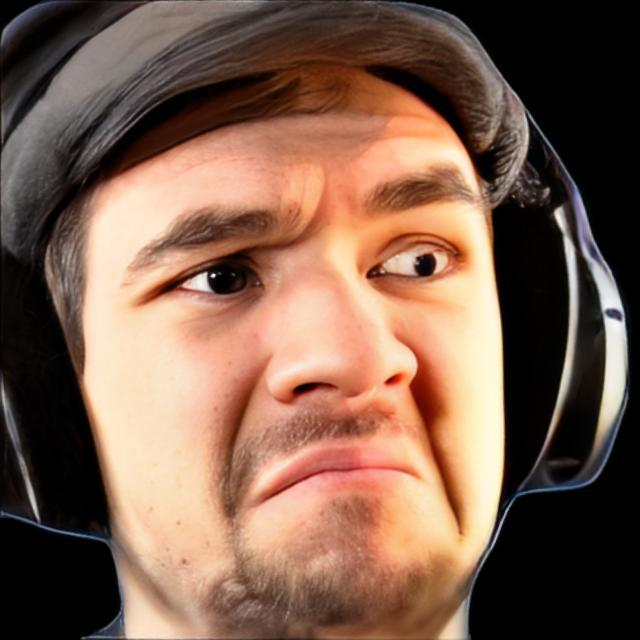disgust: (71, 61, 508, 630)
